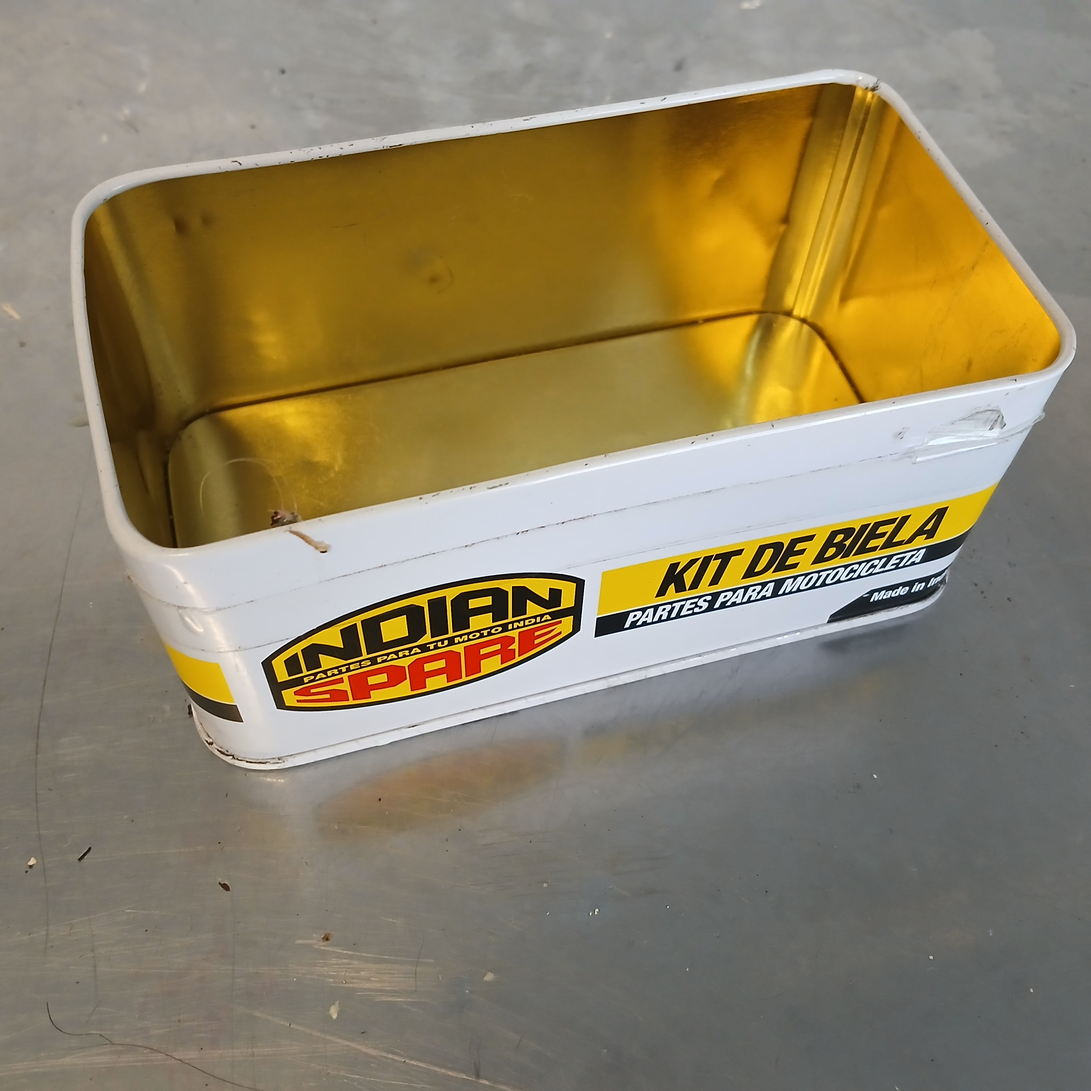Metal: (68, 70, 1080, 775)
